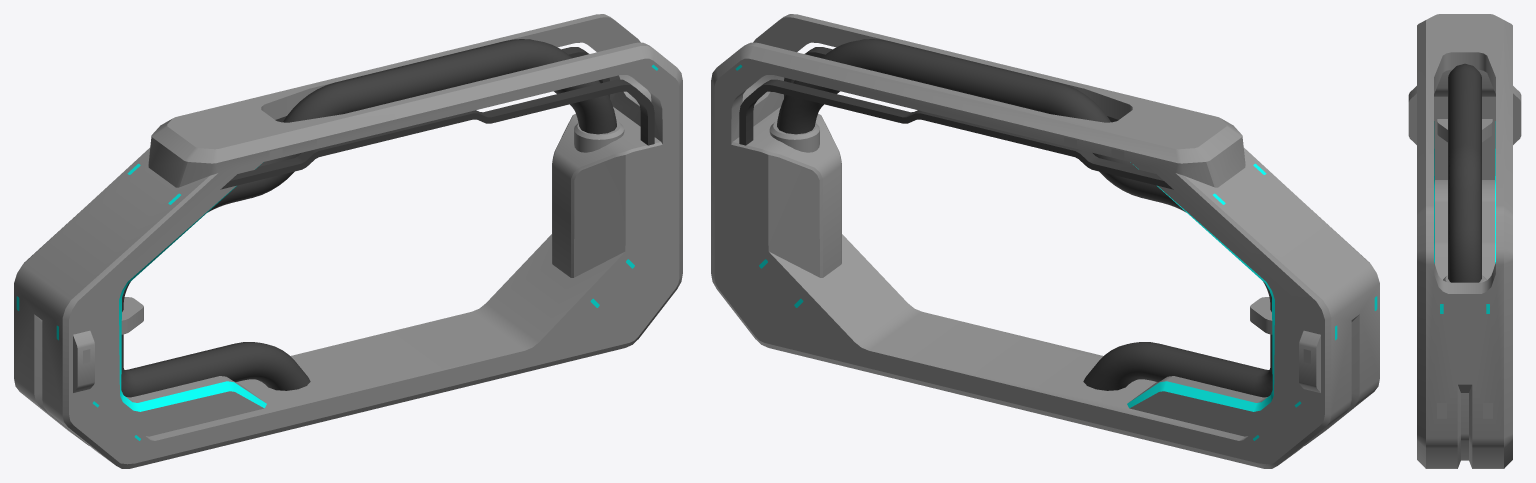
The model's file is Frame_014.FBX.
3 views of the same model, side by side, from view 1: azimuth 30°, elevation 25°; view 2: azimuth 150°, elevation 25°; view 3: azimuth 270°, elevation 25° (orthographic). The views are drawn at different scales.
Visible parts, largest first — view 1: Frame_014; view 2: Frame_014; view 3: Frame_014.
Part boxes in pixels (<box>): Frame_014: <box>14,14,682,468</box>; Frame_014: <box>711,14,1379,468</box>; Frame_014: <box>1408,14,1521,468</box>.
Bounding box in the file's own units: 6278 × 3009 × 1100.
